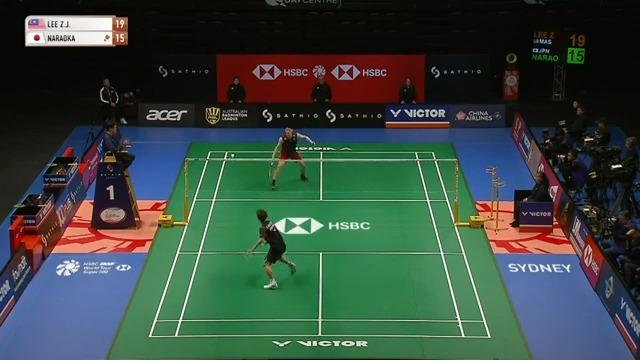Shuttlecock: (229, 149, 237, 159)
